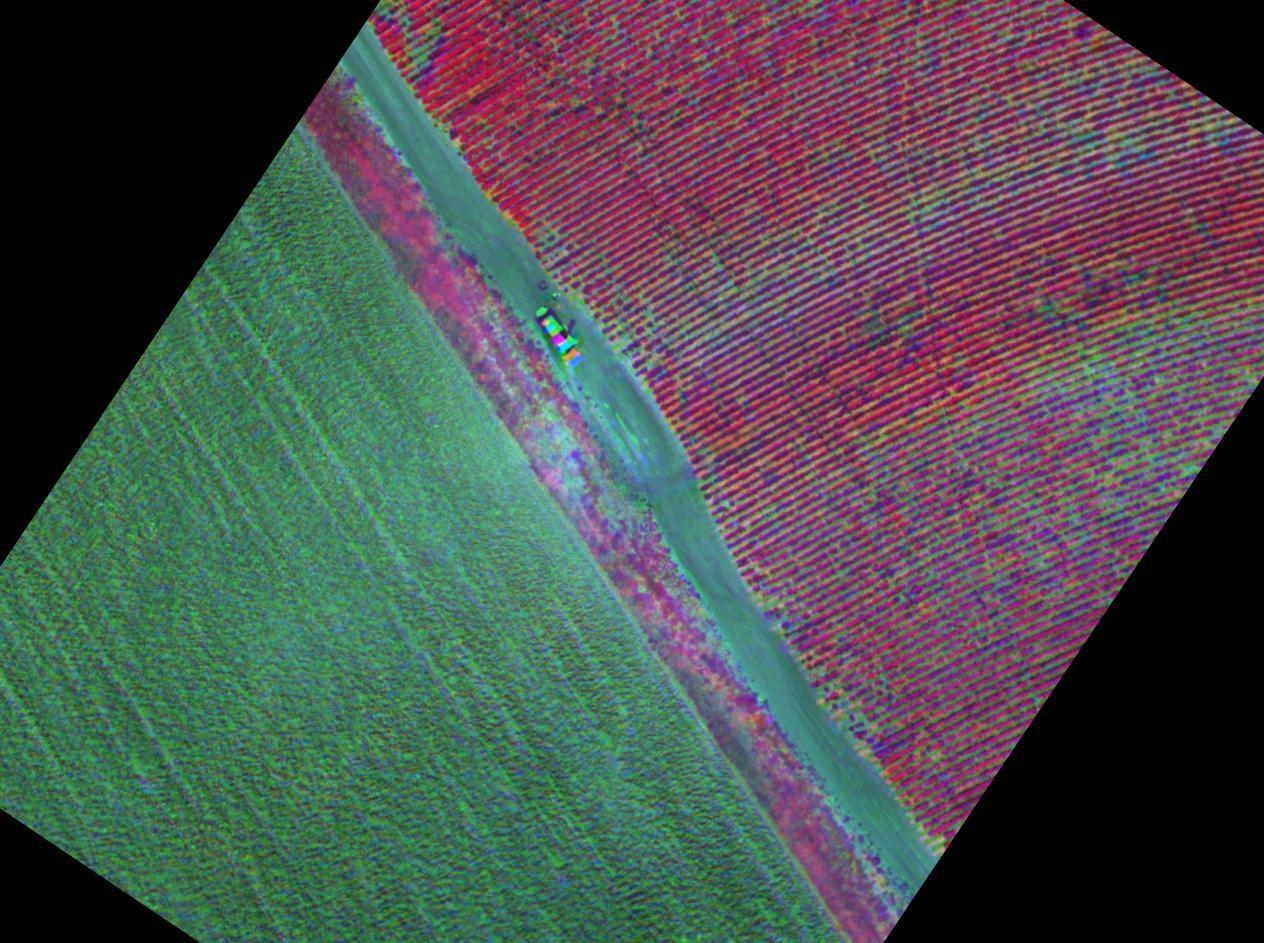dc: (1187, 468, 1194, 475), (771, 600, 777, 606), (932, 837, 937, 844), (1094, 354, 1099, 360), (1178, 318, 1182, 322)
